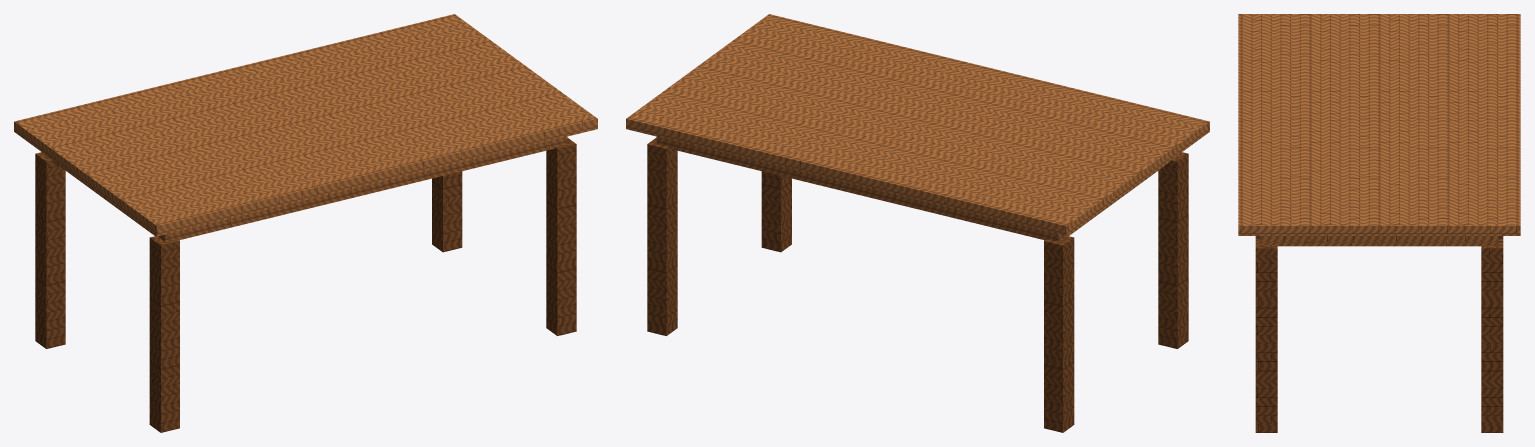
File: mesa.glb
3 views of the same model, side by side, from view 1: azimuth 30°, elevation 25°; view 2: azimuth 150°, elevation 25°; view 3: azimuth 270°, elevation 25° (orthographic).
Bounding box in the file's own units: 1.6 × 0.75 × 0.9.
3 materials, 3 textured.
